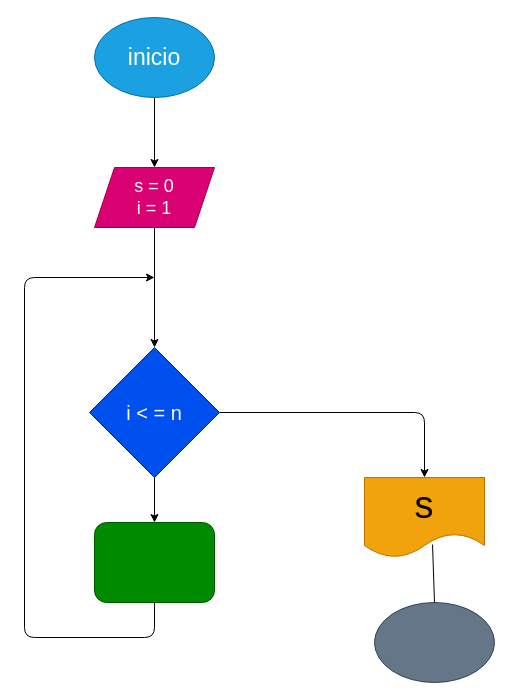
Image size: 512x700. Some labels were removed from this diagram. Here are the shapes that lost their labels. From the top down, the box of each, then its label:
(94, 522, 214, 602): s= s + i i= i + 1
(374, 602, 494, 682): fin
